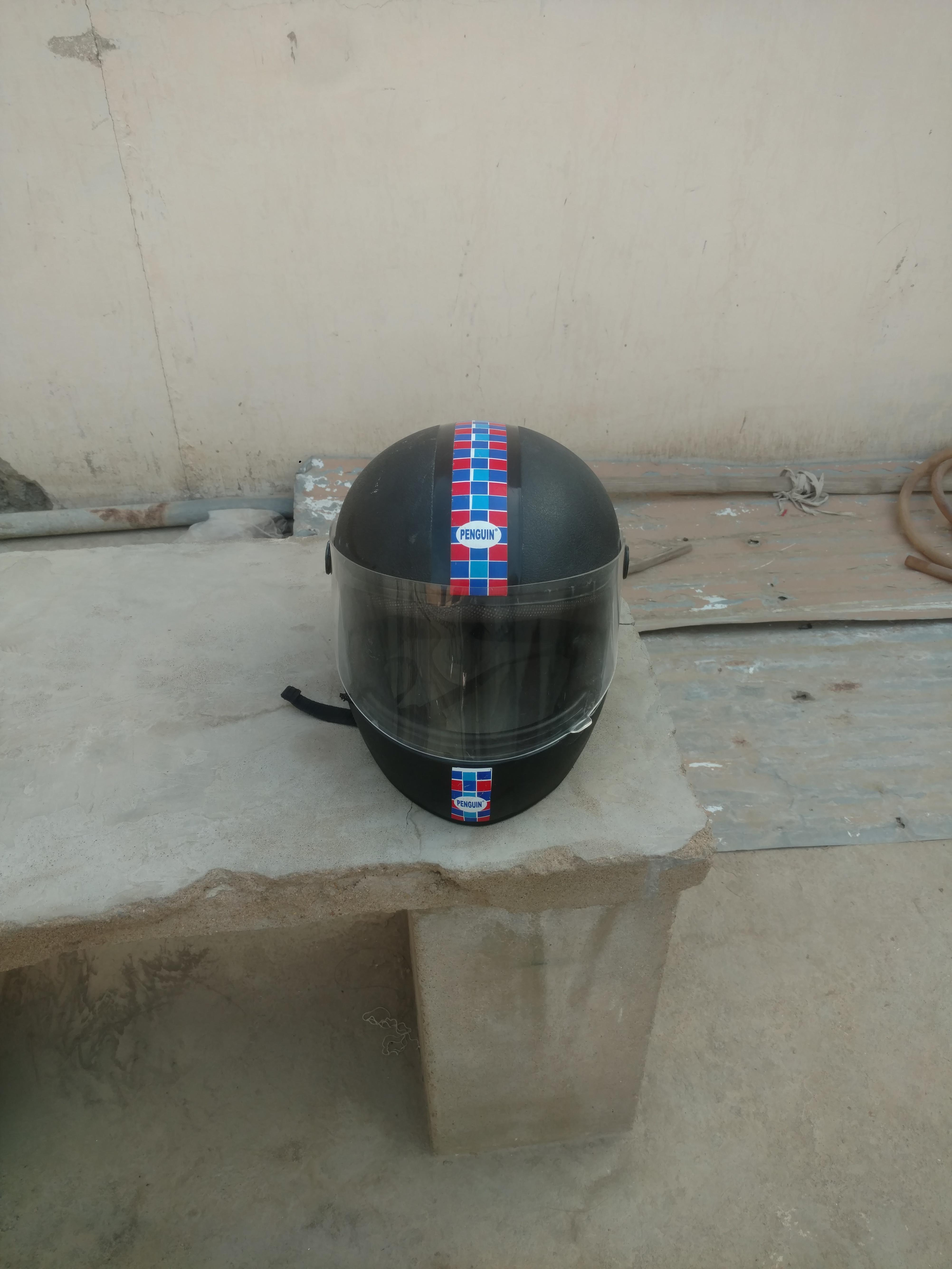helmet: (318, 397, 653, 841)
